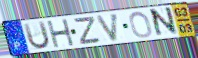H: (46, 18, 77, 49)
N: (150, 5, 180, 39)
O: (128, 10, 153, 39)
U: (22, 20, 52, 51)
V: (95, 12, 120, 43)
Z: (73, 15, 102, 46)
